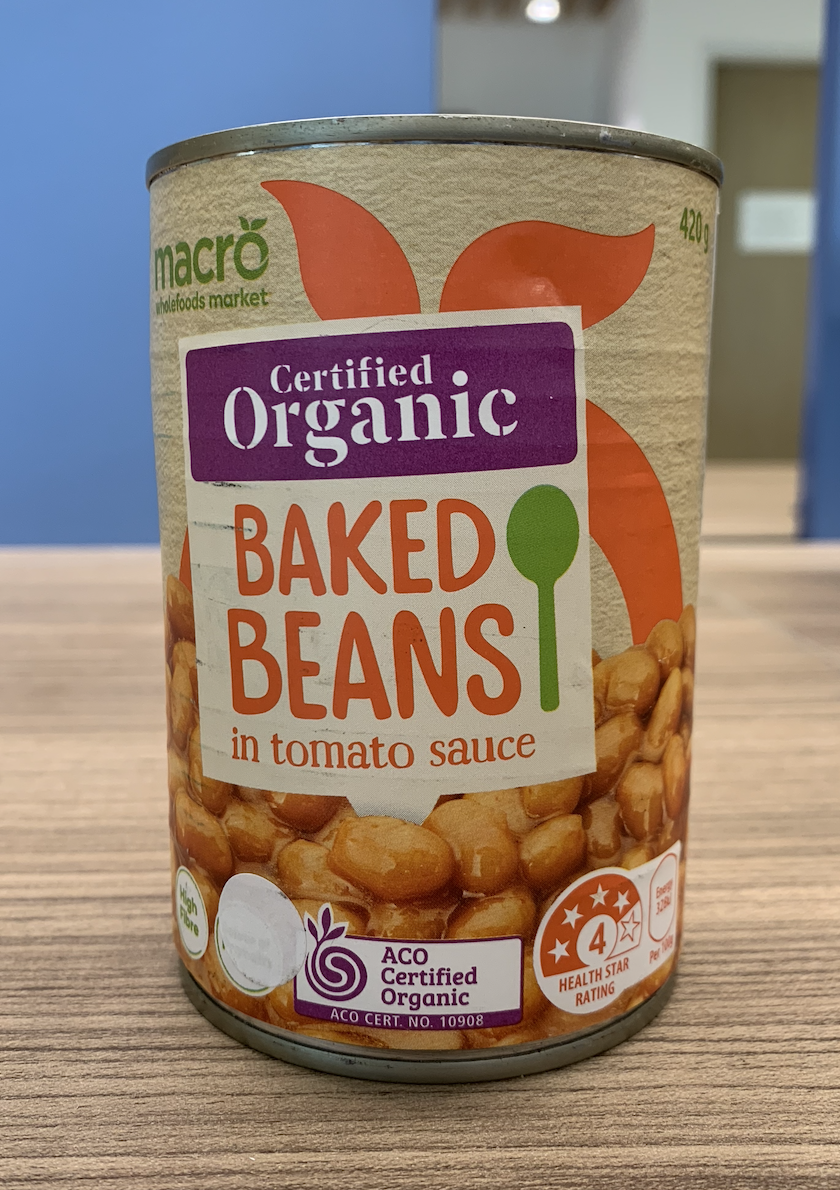Baked beans_400-499g: (172, 165, 685, 1021)
